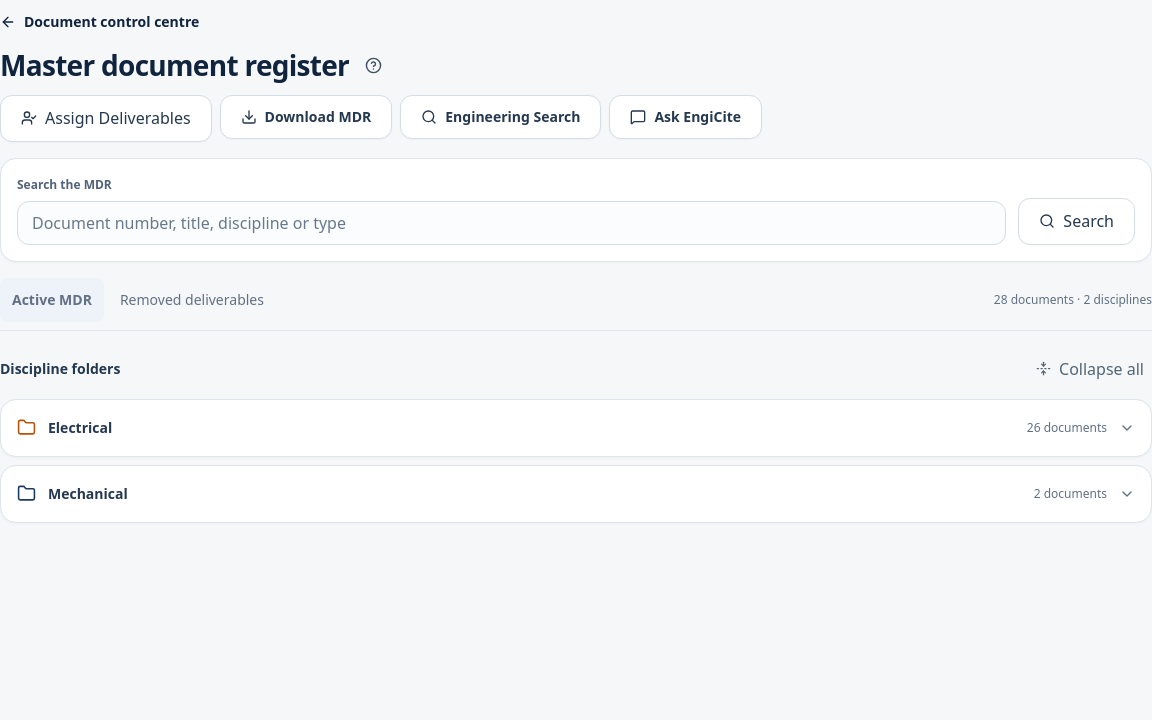
preserves read-only allocation history but hides all write controls in audited preview
Click the button "Assign Deliverables": (106, 118) left=0, top=95, right=212, bottom=142
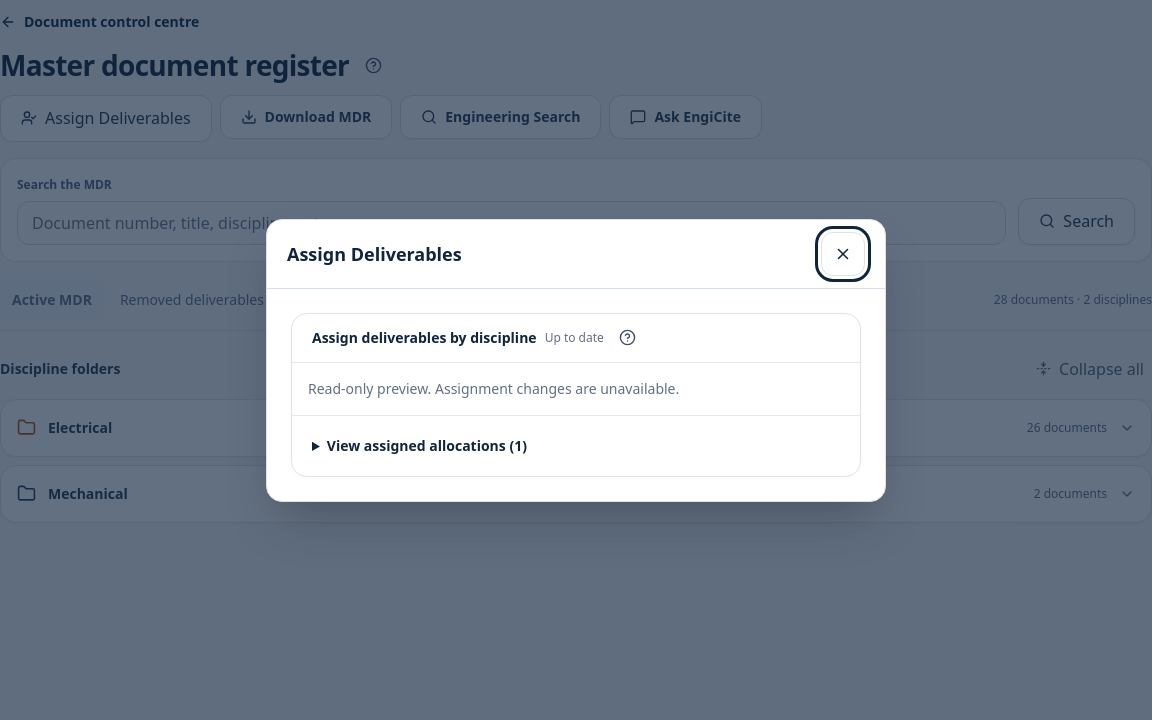
Result: the dialog "Assign Deliverables" is shown at left=266, top=218, right=886, bottom=502
Result: the heading "View assigned allocations (1)" is shown at left=327, top=436, right=527, bottom=454
Result: the text "Read-only preview. Assignment changes are unavailable." is shown at left=308, top=378, right=679, bottom=398
